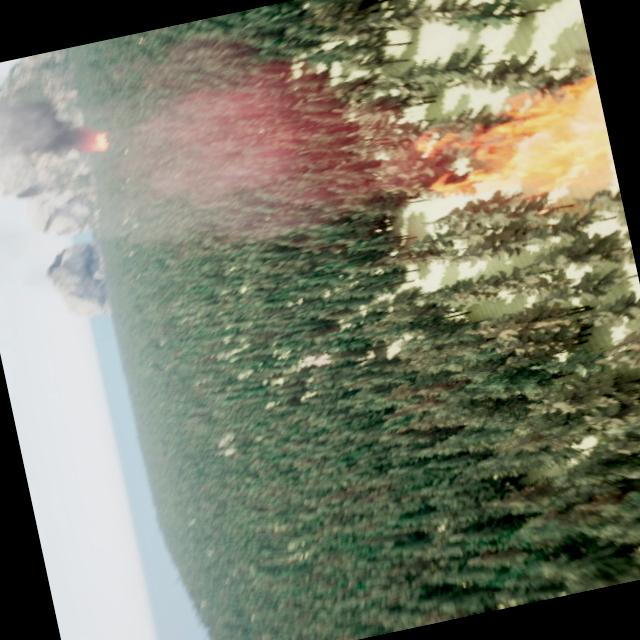fire: (406, 70, 620, 236), (81, 130, 106, 152)
smoke: (105, 0, 416, 263), (0, 87, 80, 174)
